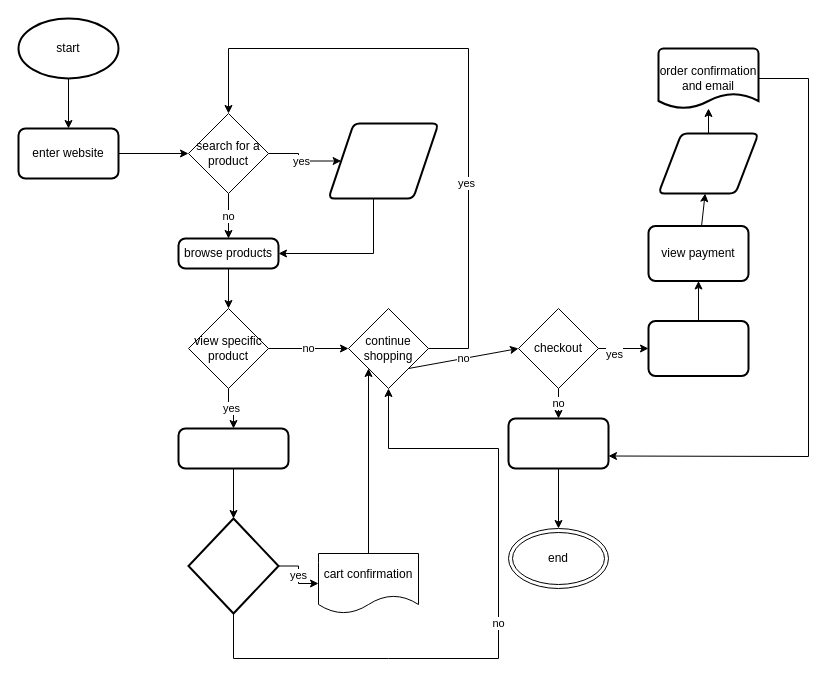
Some shapes in this 834 by 684 pixel diagram are drawn without their labels. The centre of each missing label's shape, as x and y in pixels:
add to cart: (233,565)
leave website: (558,443)
open product page: (233,448)
payment information: (708,163)
search query: (383,160)
view cart: (698,348)
